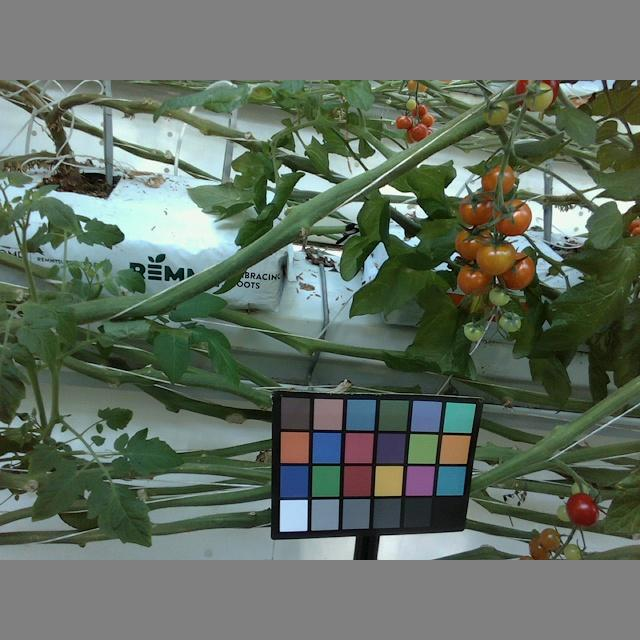green: (523, 81, 555, 112), (486, 98, 508, 126), (463, 318, 487, 342), (500, 311, 522, 334), (488, 286, 511, 306), (560, 542, 583, 558)
pink: (494, 246, 534, 292), (493, 198, 535, 237), (454, 226, 494, 261), (476, 241, 518, 274), (455, 262, 495, 296), (460, 192, 497, 228), (482, 163, 513, 196), (529, 537, 553, 560), (541, 528, 562, 549)
red: (565, 492, 601, 528)
